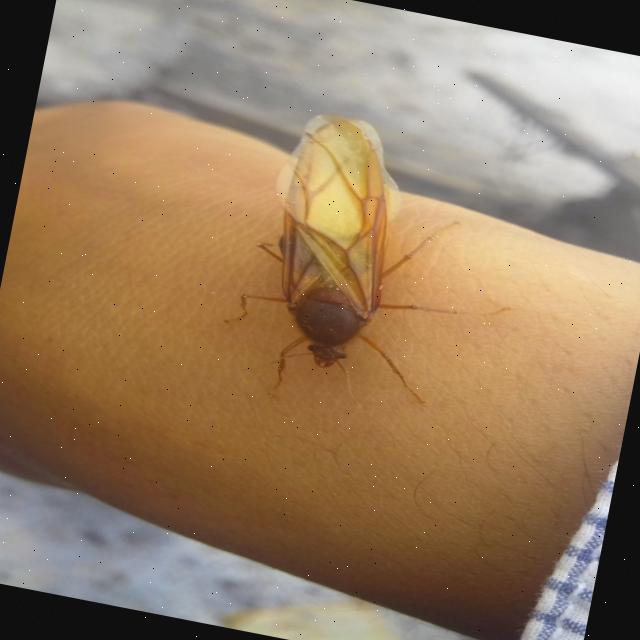Alive-Male-Alate: (213, 102, 540, 430)
